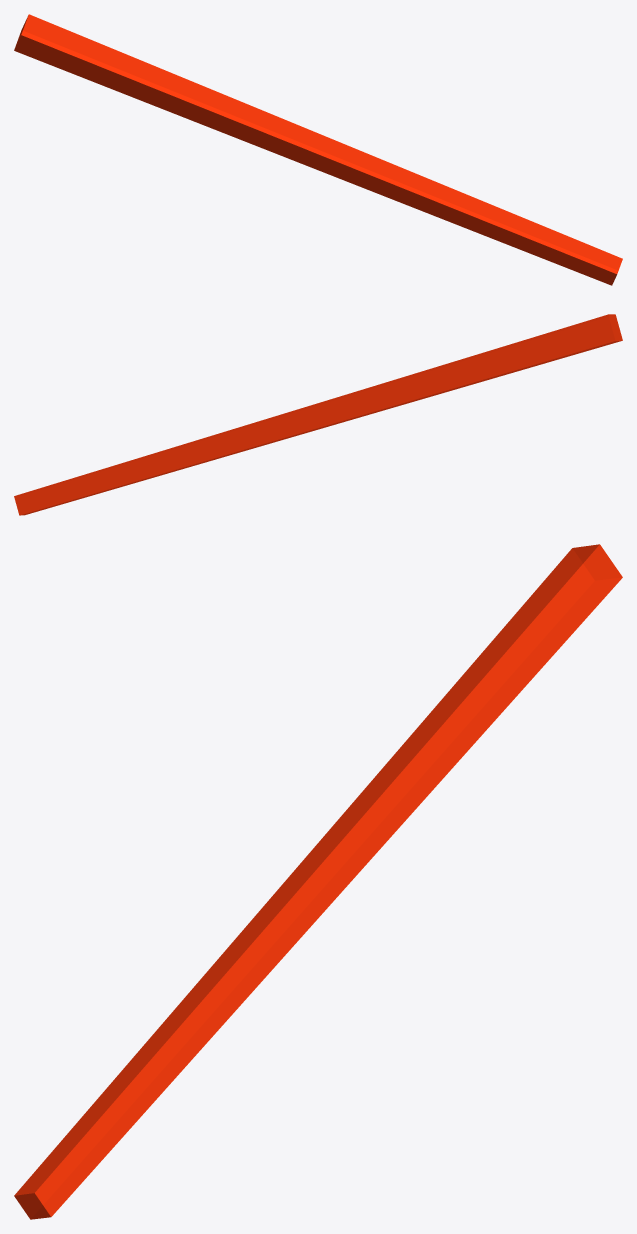
The model's file is Event_421364160_EBrechit_4.fbx.
3 renders of one model, top to bottom at view 1: azimuth 30°, elevation 25°; view 2: azimuth 210°, elevation 25°; view 3: azimuth 270°, elevation 25°, orthographic. The views are drawn at different scales.
Parts seen in each view (by area): view 1: Model; view 2: Model; view 3: Model.
Boxes of the visible parts, x1,y1,x2,y2 form: Model: (14, 14, 622, 285); Model: (14, 314, 622, 515); Model: (14, 544, 622, 1219).
Bounding box in the file's own units: 1.38 × 0.726 × 1.08.
